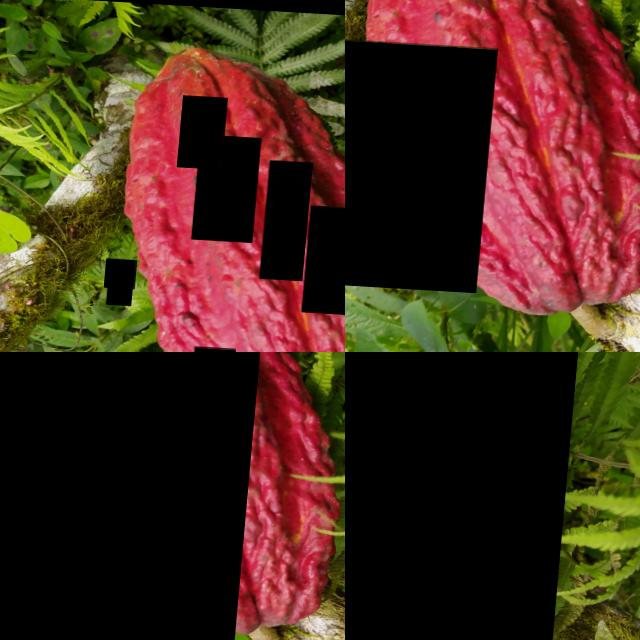Monilia: (345, 35, 501, 288)
Sana: (0, 352, 266, 640), (345, 352, 585, 640), (196, 131, 263, 239), (264, 156, 316, 276), (307, 200, 345, 310), (180, 92, 229, 166), (112, 266, 139, 303), (110, 256, 142, 287)
